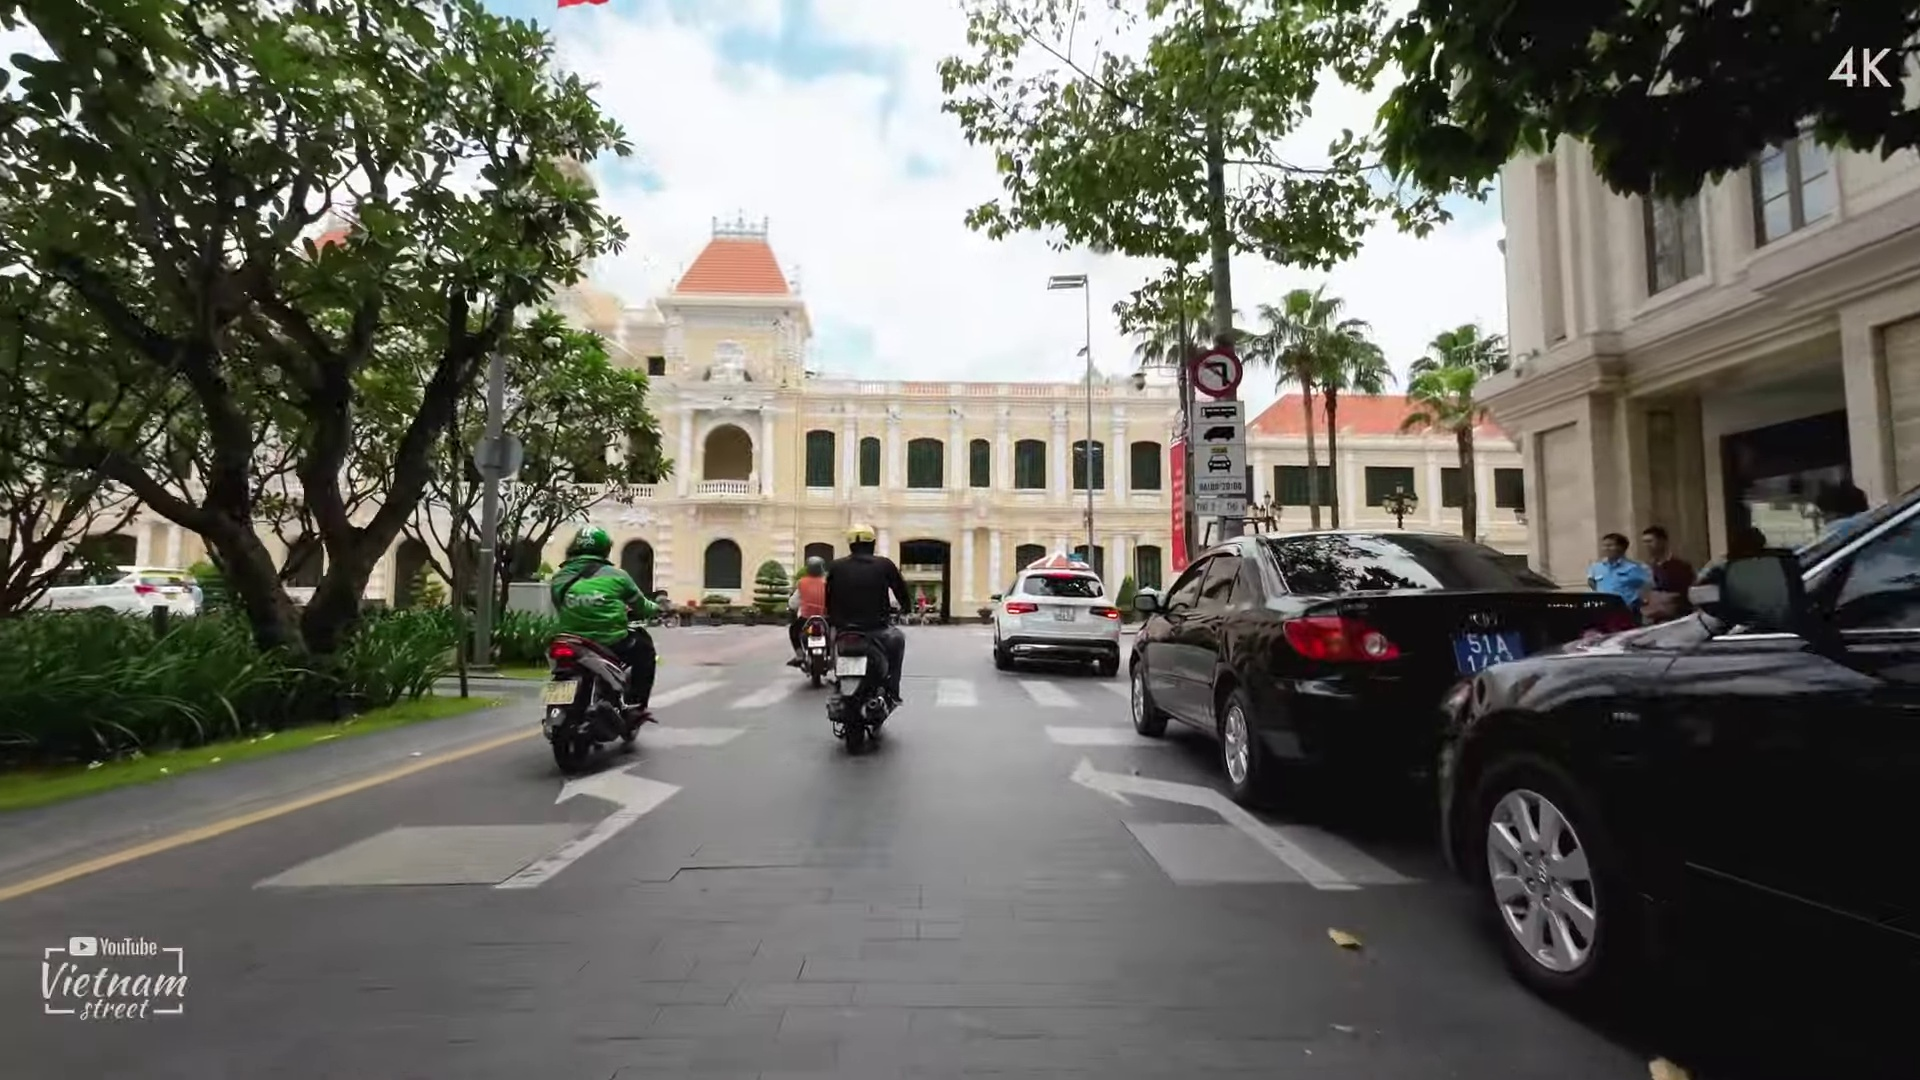cam_re_trai: (1187, 345, 1244, 401)
